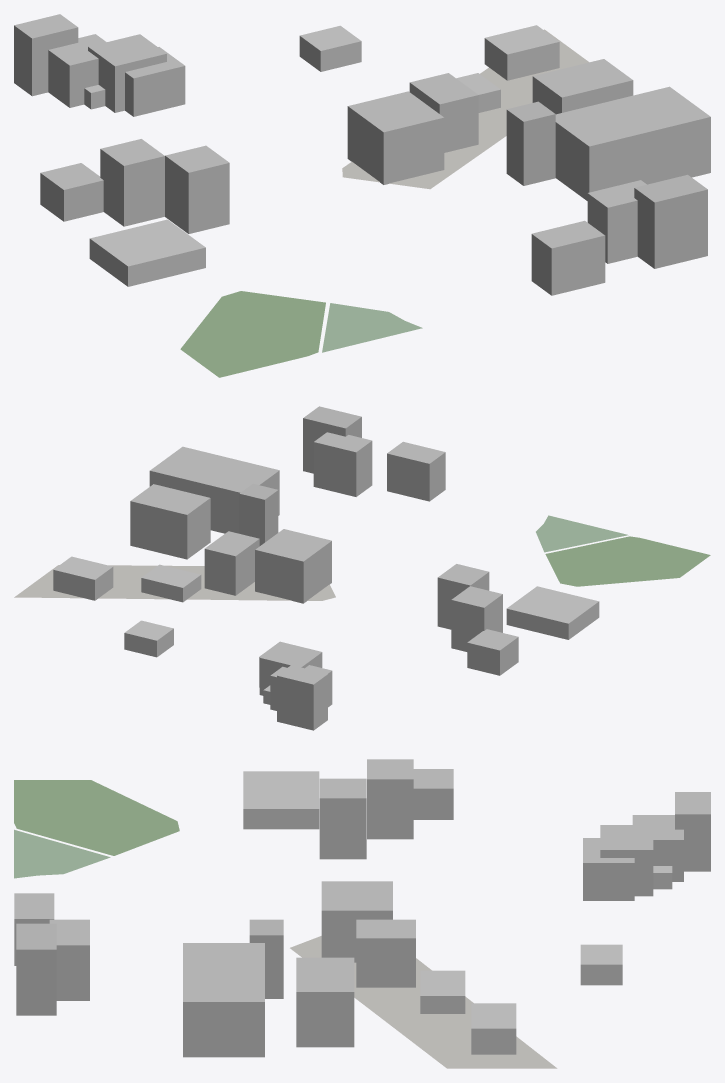
Rendered from 131_93_mid.glb.
3 renders of one model, top to bottom at view 1: azimuth 30°, elevation 25°; view 2: azimuth 150°, elevation 25°; view 3: azimuth 270°, elevation 25°, orthographic. The views are drawn at different scales.
Size of the model in its own units: 500 by 54.15 by 508.
